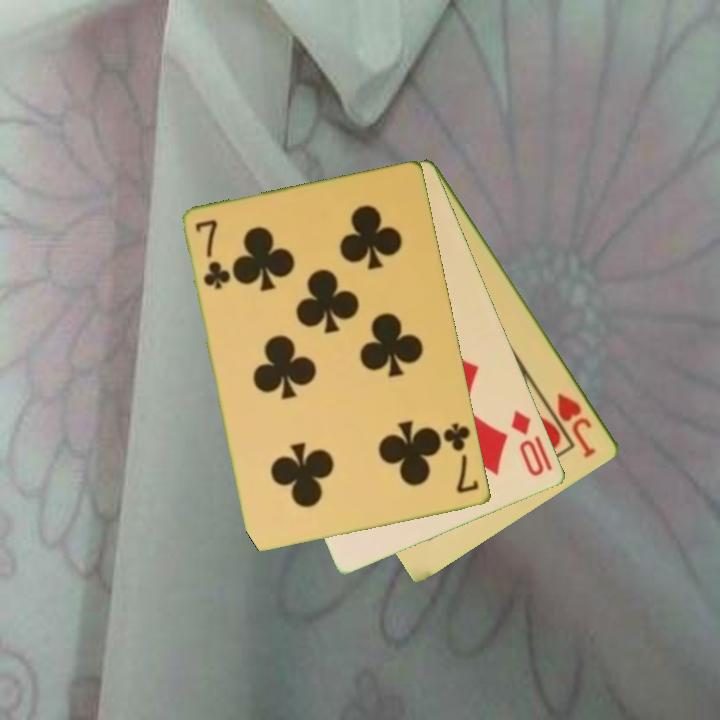10d: (507, 407, 548, 480)
7c: (440, 419, 482, 497), (192, 216, 232, 293)
Jh: (554, 389, 600, 461)
